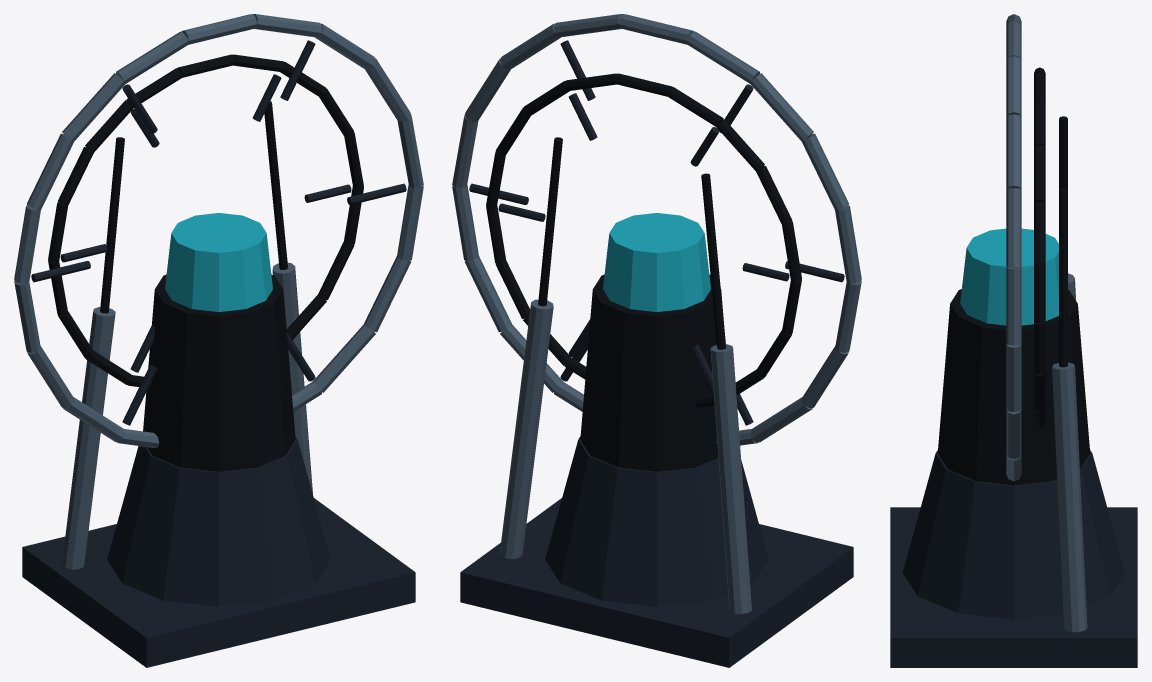
File: chaos_orbital_halo_array.obj
3 views of the same model, side by side, from view 1: azimuth 30°, elevation 25°; view 2: azimuth 150°, elevation 25°; view 3: azimuth 270°, elevation 25° (orthographic).
Visible parts, largest first — view 1: ReactorColumn, ReactorFoot, ReactorUpper, PlasmaPrism, ReactorPylon-1, ReactorPylon1, SignalSpire-1, SignalSpire1, Halo0Band8, Halo0Band7, Halo0Band16, Halo0Band17 (+20 smaller); view 2: ReactorColumn, ReactorFoot, ReactorUpper, PlasmaPrism, ReactorPylon-1, ReactorPylon1, SignalSpire-1, SignalSpire1, Halo0Band8, Halo0Band7, Halo0Band17, Halo0Band6 (+21 smaller); view 3: ReactorColumn, ReactorFoot, ReactorUpper, ReactorPylon1, PlasmaPrism, SignalSpire1, Halo0Band2, Halo0Band1, Halo0Band3, Halo0Band18, Halo0Band4, Halo0Band17 (+8 smaller).
Boxes of the visible parts, x1,y1,x2,y2 form: ReactorColumn: (107, 436, 330, 606); ReactorFoot: (22, 498, 415, 667); ReactorUpper: (143, 274, 295, 471); PlasmaPrism: (165, 213, 272, 311); ReactorPylon-1: (62, 307, 115, 569); ReactorPylon1: (272, 262, 312, 493); SignalSpire-1: (100, 137, 124, 313); SignalSpire1: (264, 101, 287, 269); Halo0Band8: (27, 133, 74, 210); Halo0Band7: (62, 73, 125, 141); Halo0Band16: (312, 324, 375, 392); Halo0Band17: (363, 256, 410, 332); ReactorColumn: (545, 436, 768, 606); ReactorFoot: (460, 498, 853, 667); ReactorUpper: (580, 274, 723, 471); PlasmaPrism: (603, 213, 710, 311); ReactorPylon-1: (710, 344, 751, 614); ReactorPylon1: (500, 299, 553, 559); SignalSpire-1: (701, 173, 726, 349); SignalSpire1: (538, 137, 562, 306); Halo0Band8: (801, 133, 848, 210); Halo0Band7: (750, 73, 813, 141); Halo0Band17: (465, 256, 512, 332); Halo0Band6: (687, 31, 759, 83); ReactorColumn: (902, 450, 1125, 619); ReactorFoot: (890, 507, 1137, 667); ReactorUpper: (937, 289, 1090, 485); ReactorPylon1: (1052, 362, 1087, 632); PlasmaPrism: (960, 228, 1058, 325); SignalSpire1: (1059, 188, 1067, 367); Halo0Band2: (1006, 188, 1021, 267); Halo0Band1: (1006, 267, 1021, 345); Halo0Band3: (1006, 114, 1021, 188); Halo0Band18: (1006, 344, 1021, 412); Halo0Band4: (1006, 56, 1021, 116); Halo0Band17: (1006, 408, 1021, 459).
Bounding box in the file's own units: 22.75 × 30.21 × 12.
